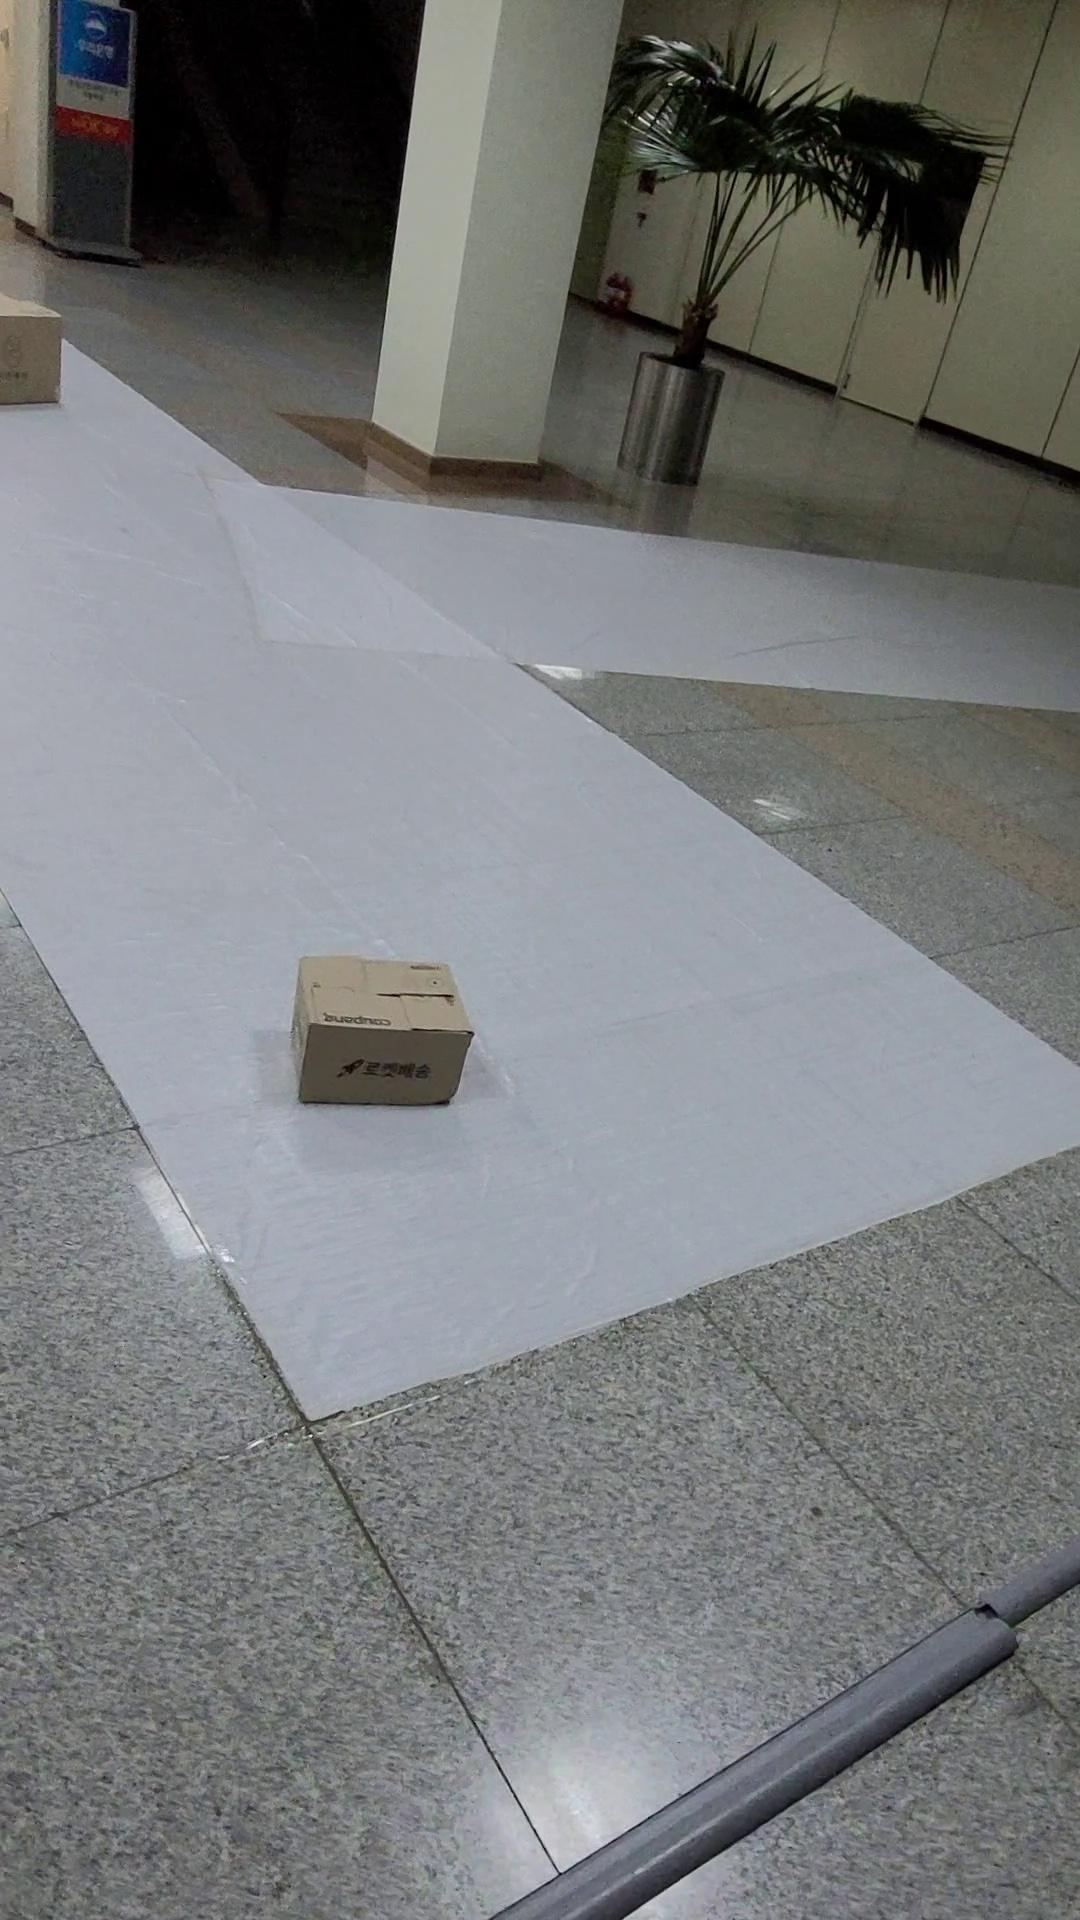Box: (268, 895, 516, 1139), (0, 297, 133, 435)
